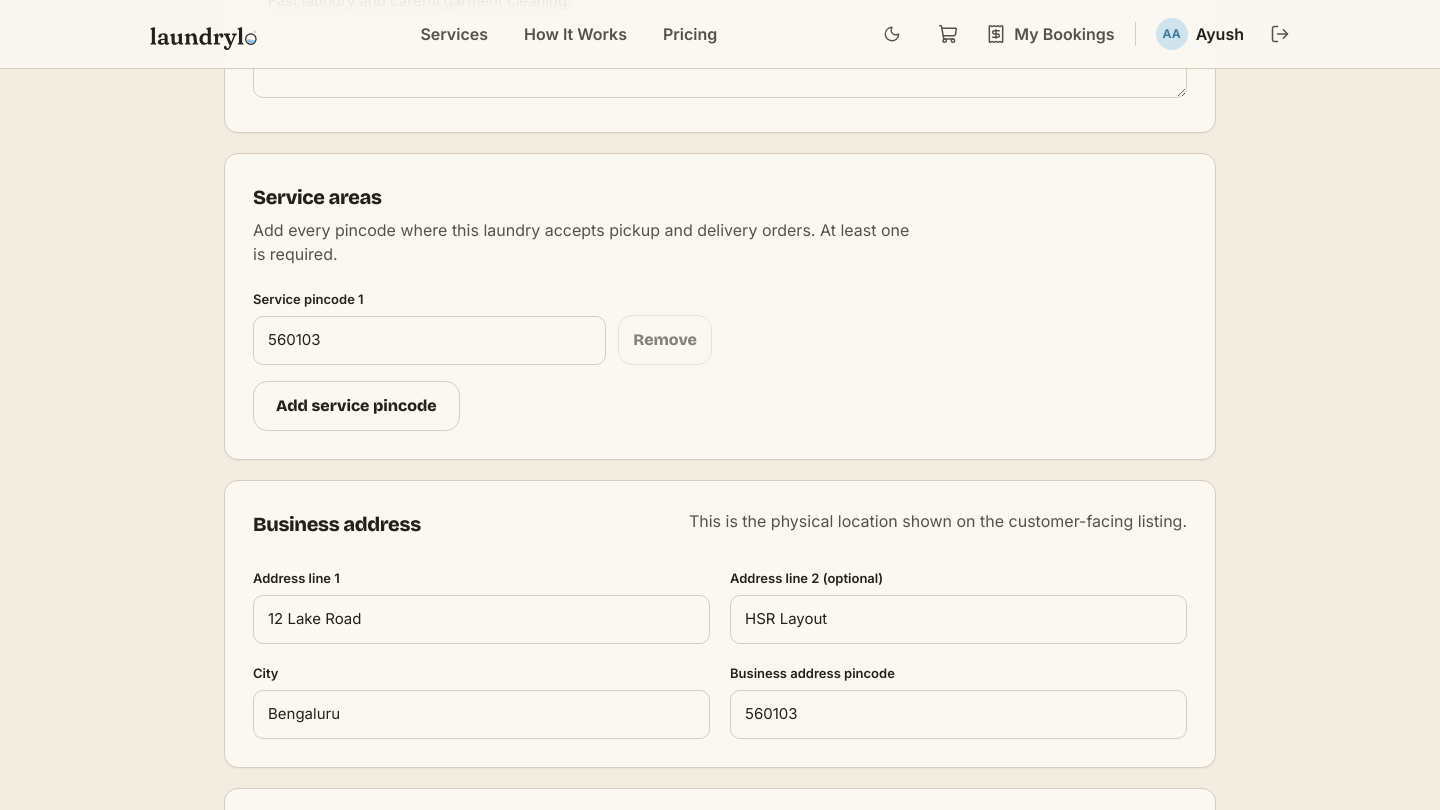
Scenario: laundry-partner settings › keeps at least one service pincode while allowing obsolete areas to be removed
The image size is (1440, 810).
(page scrolled)
Expected: the button with aria-label "Remove service pincode 1" is disabled, [618,314,712,364]
Click the button "Add service pincode". click: (356, 406)
box: [253,380,460,430]
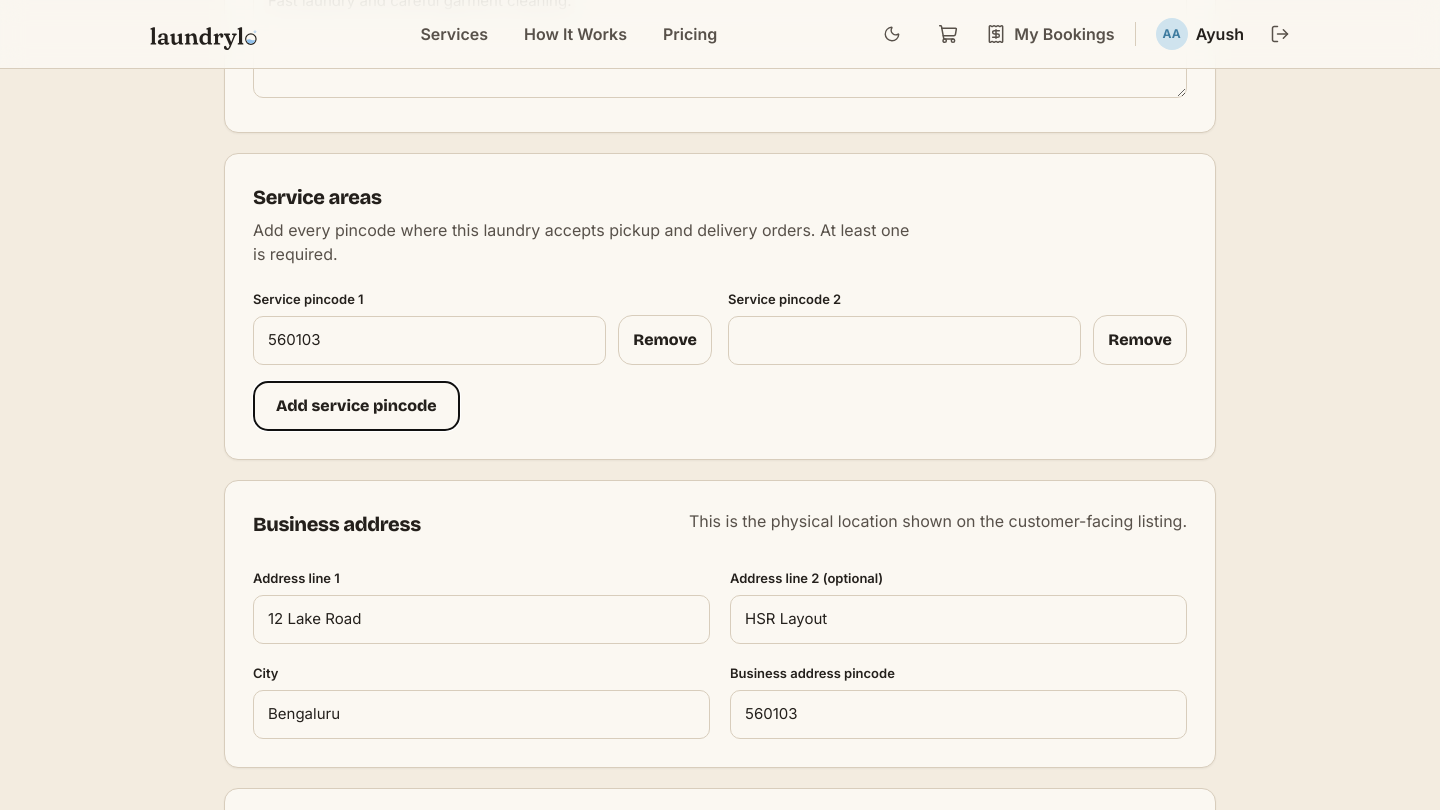
Type "560104" into the field labelled "Service pincode 2". click: (905, 340)
box: [728,316,1081,364]
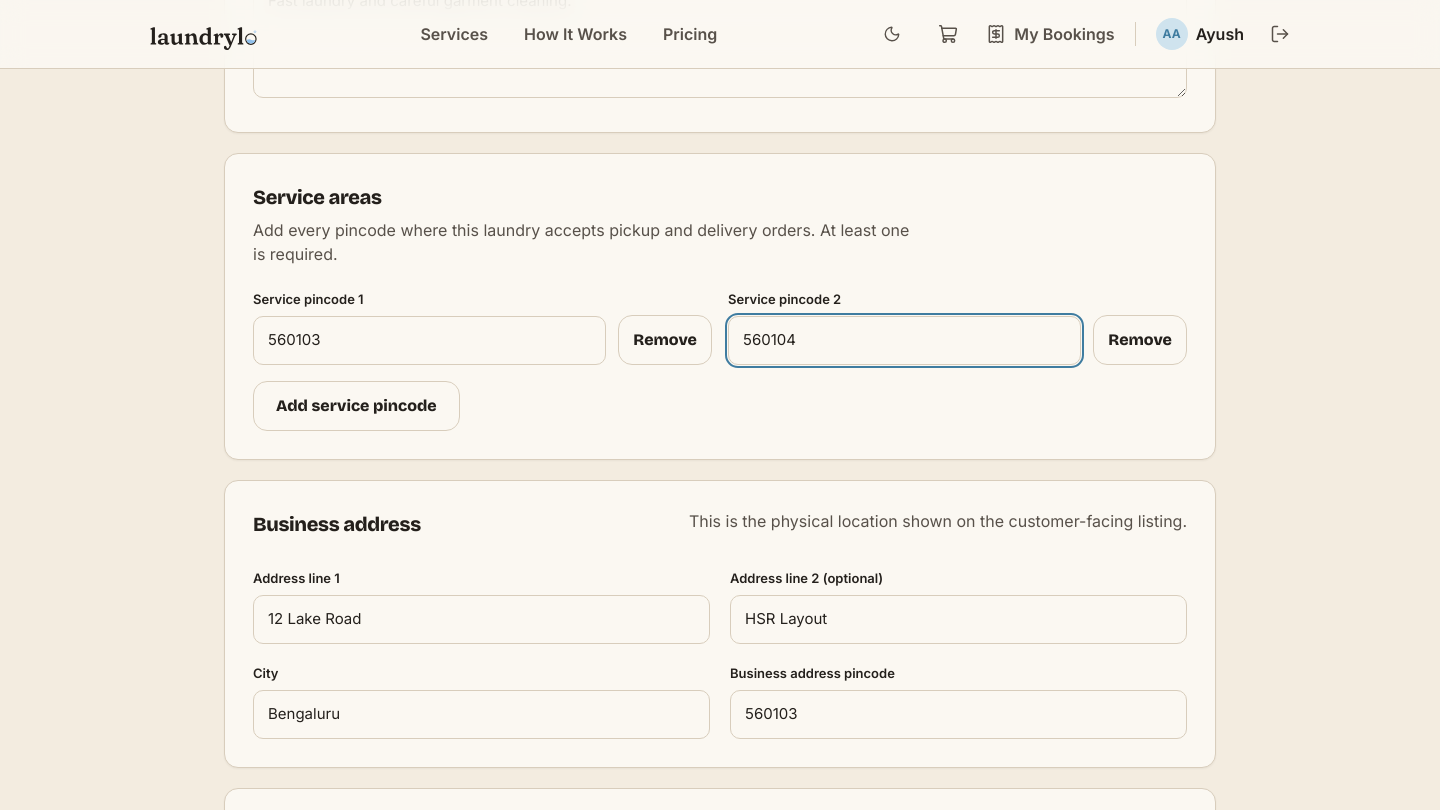
Now the button with aria-label "Remove service pincode 1" is enabled
Click the button with aria-label "Remove service pincode 1". click: (665, 340)
box: [618,314,712,364]
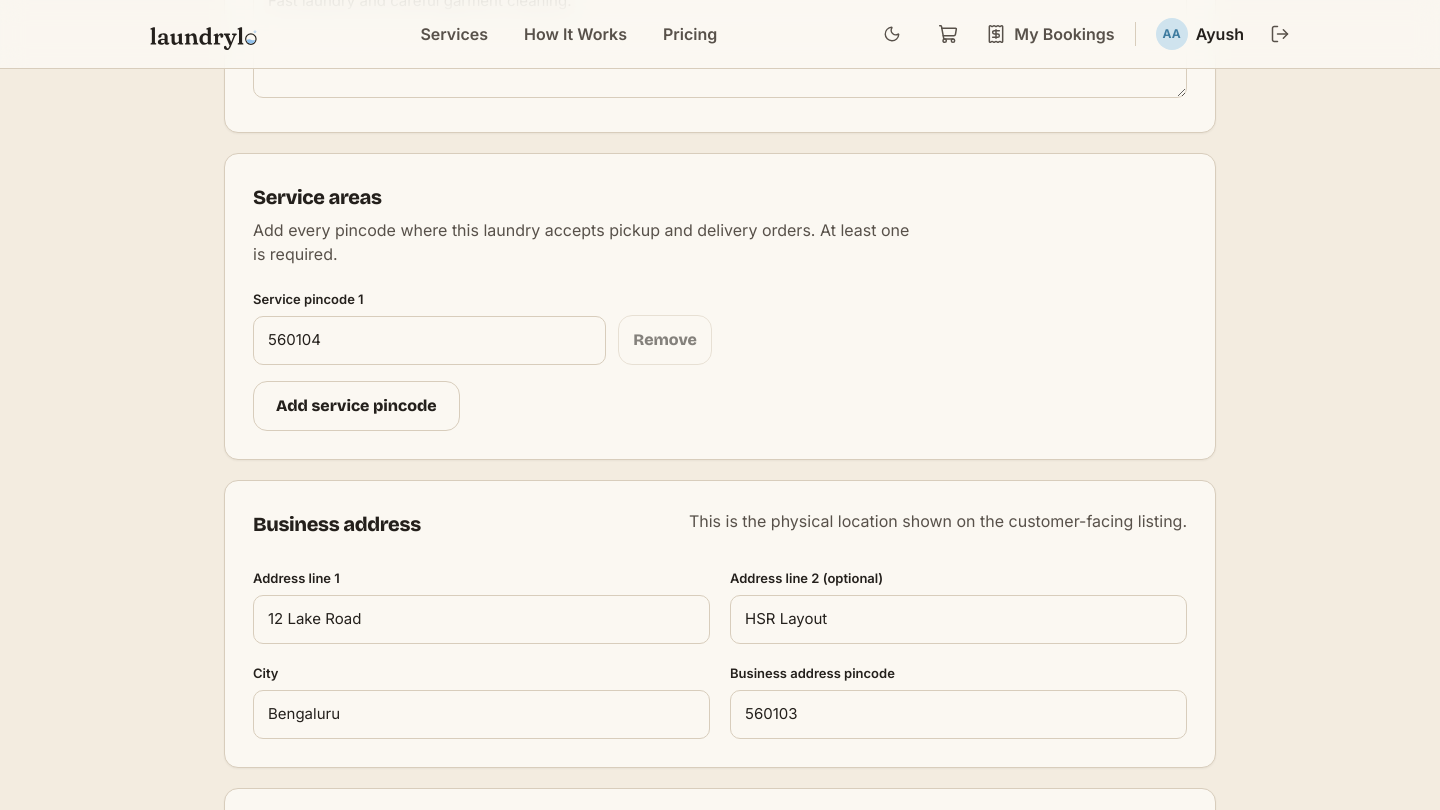
Now the field labelled "Service pincode 1" holds "560104", box [253,316,606,364]
Now the button with aria-label "Remove service pincode 1" is disabled, box [618,314,712,364]
